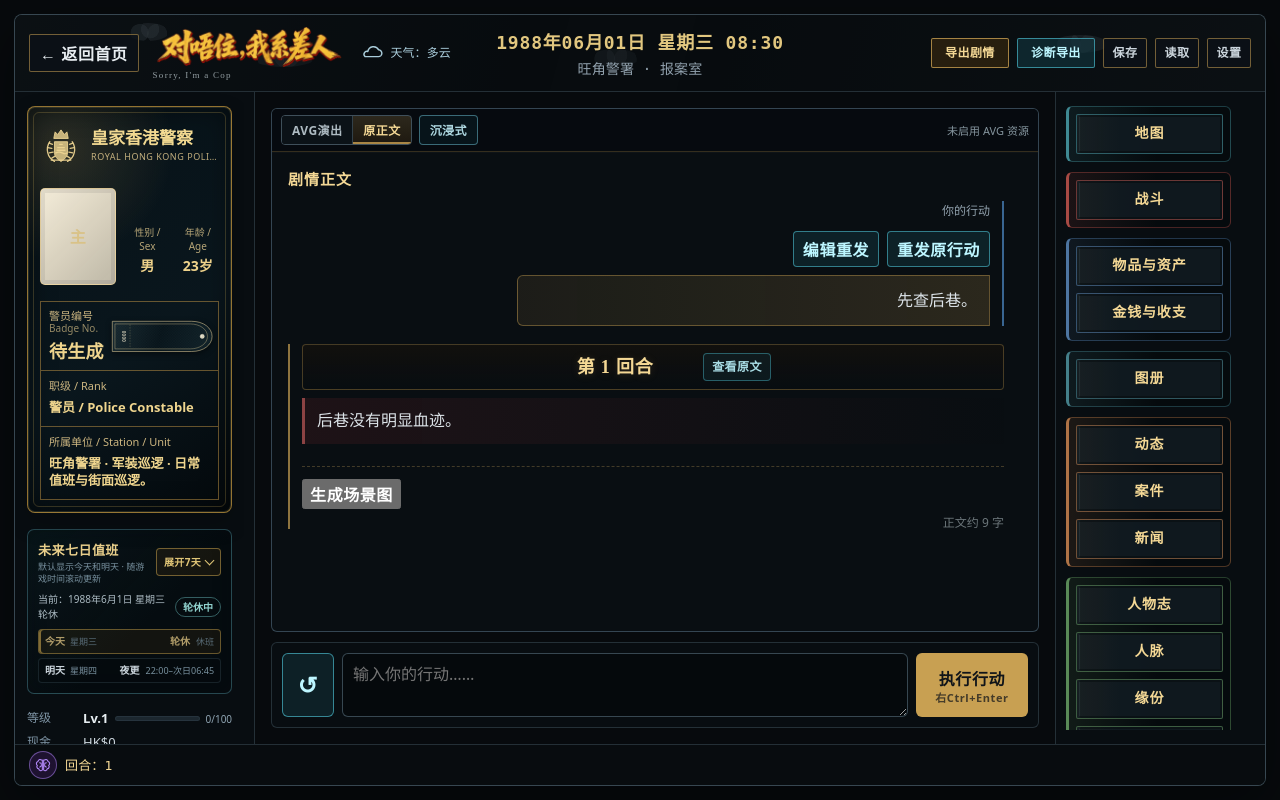
Test case: GameScreen rollback chain › keeps the original state and rollback branch when an edited resend fails
Click the button "编辑重发": (836, 249) [793,231,879,267]
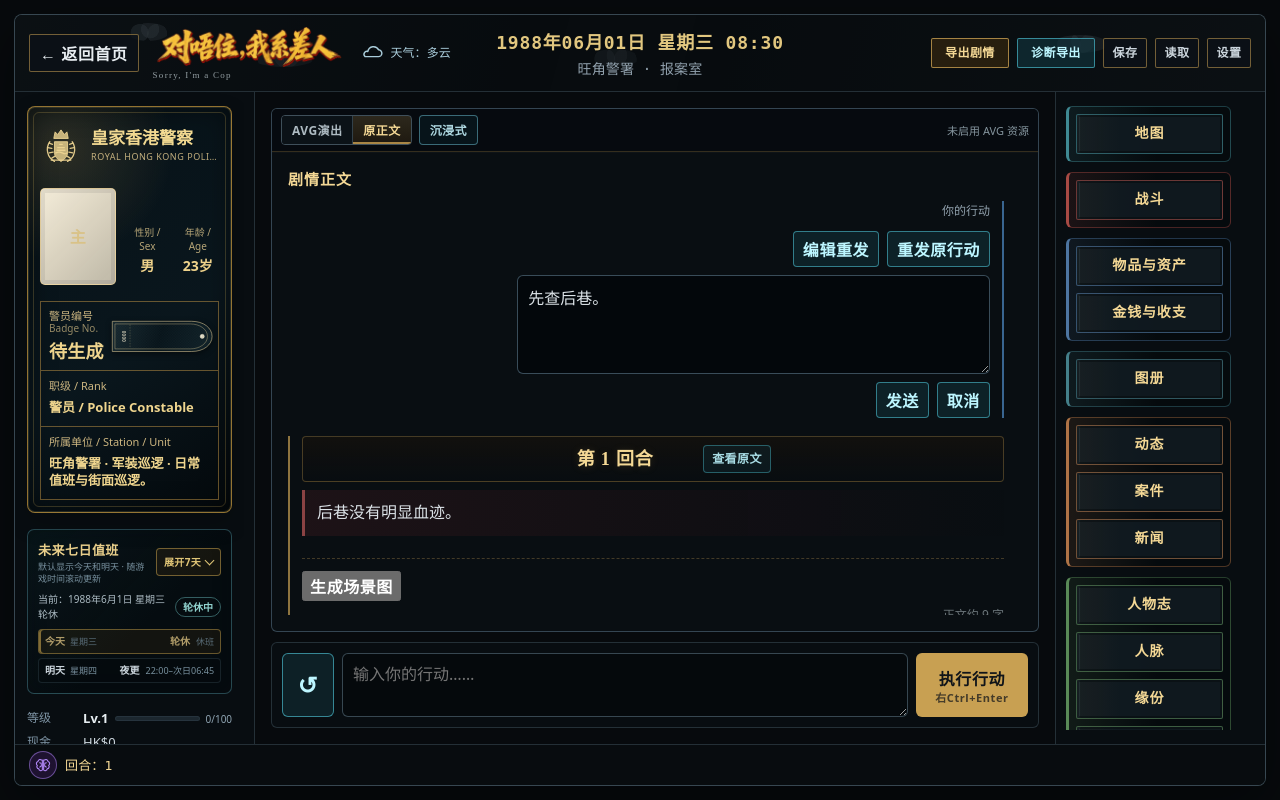
Replace the text in the text box named "编辑第 1 回合行动" with "改为先问店员。": (754, 324) [517,275,990,374]
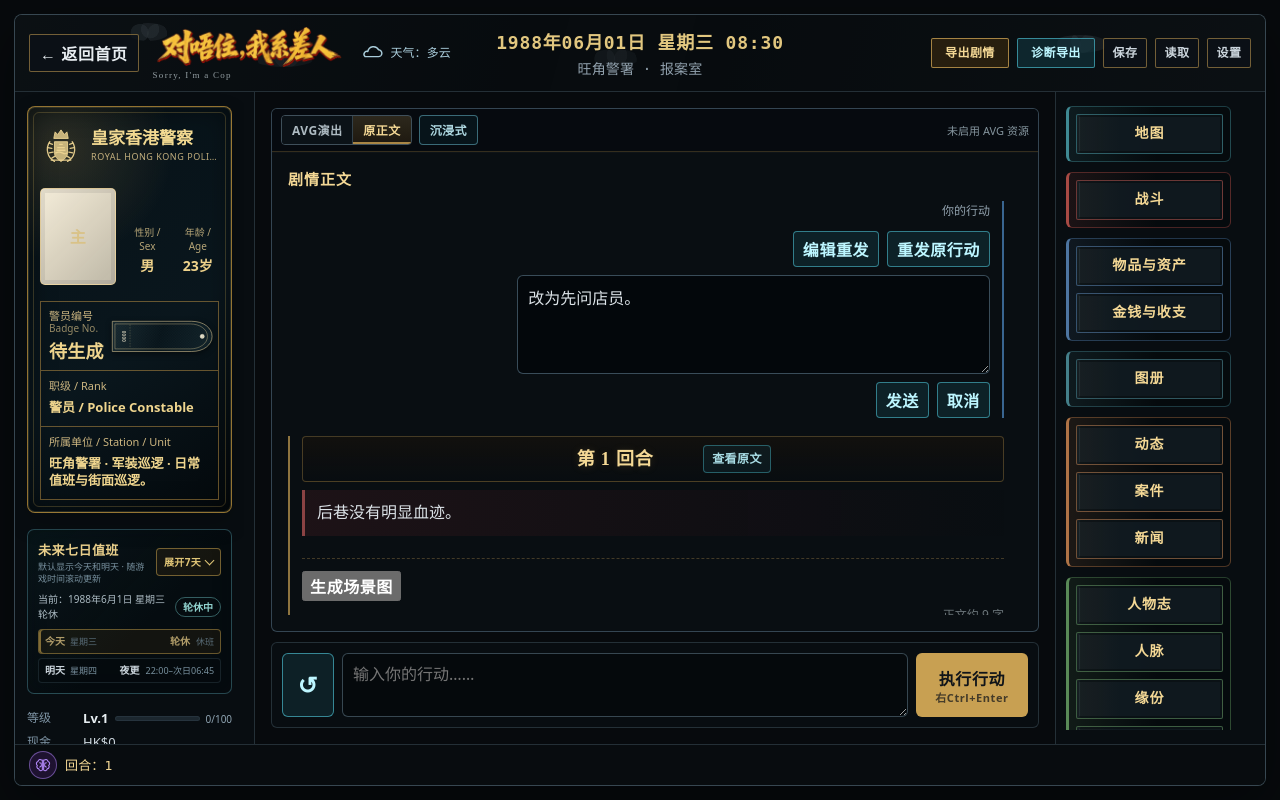
Click the button "发送": (902, 400) [876,382,929,418]
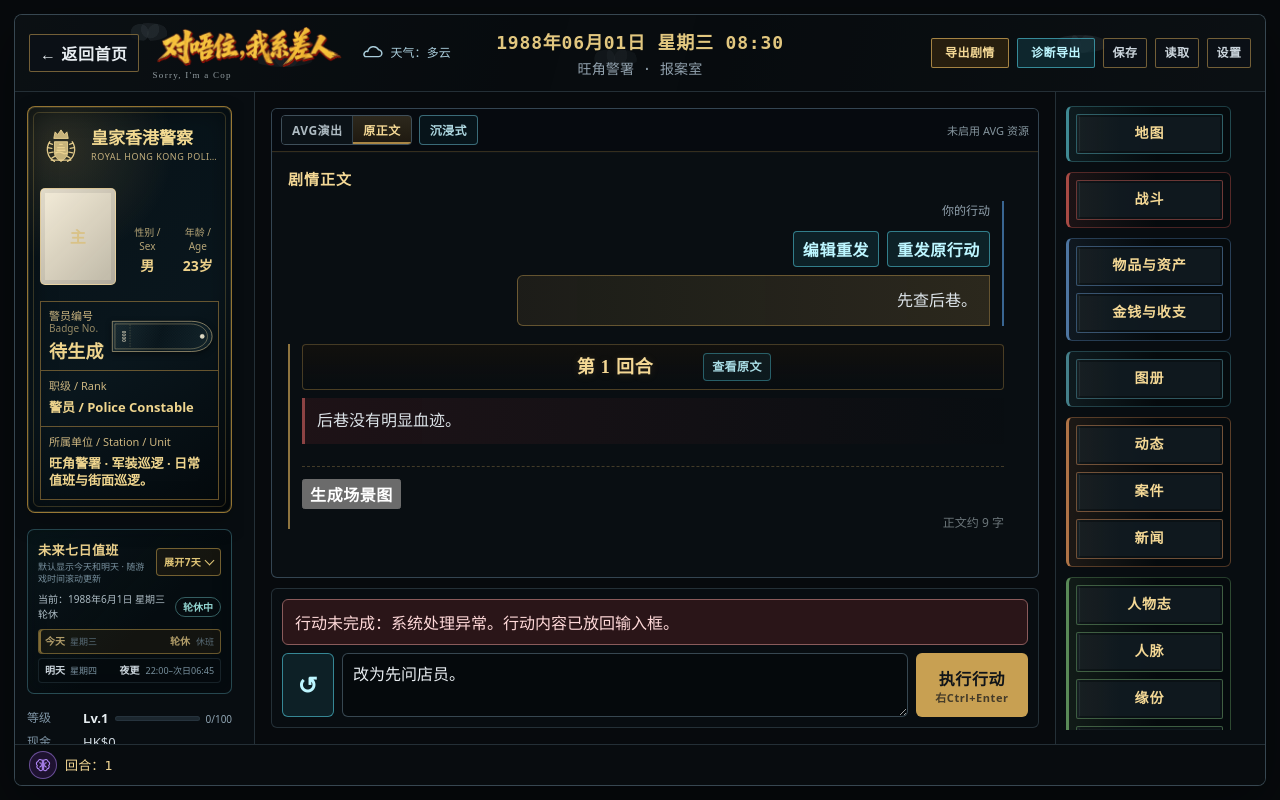
Check: the text "行动未完成：系统处理异常。行动内容已放回输入框。" is shown, box [282,599,1028,645]
